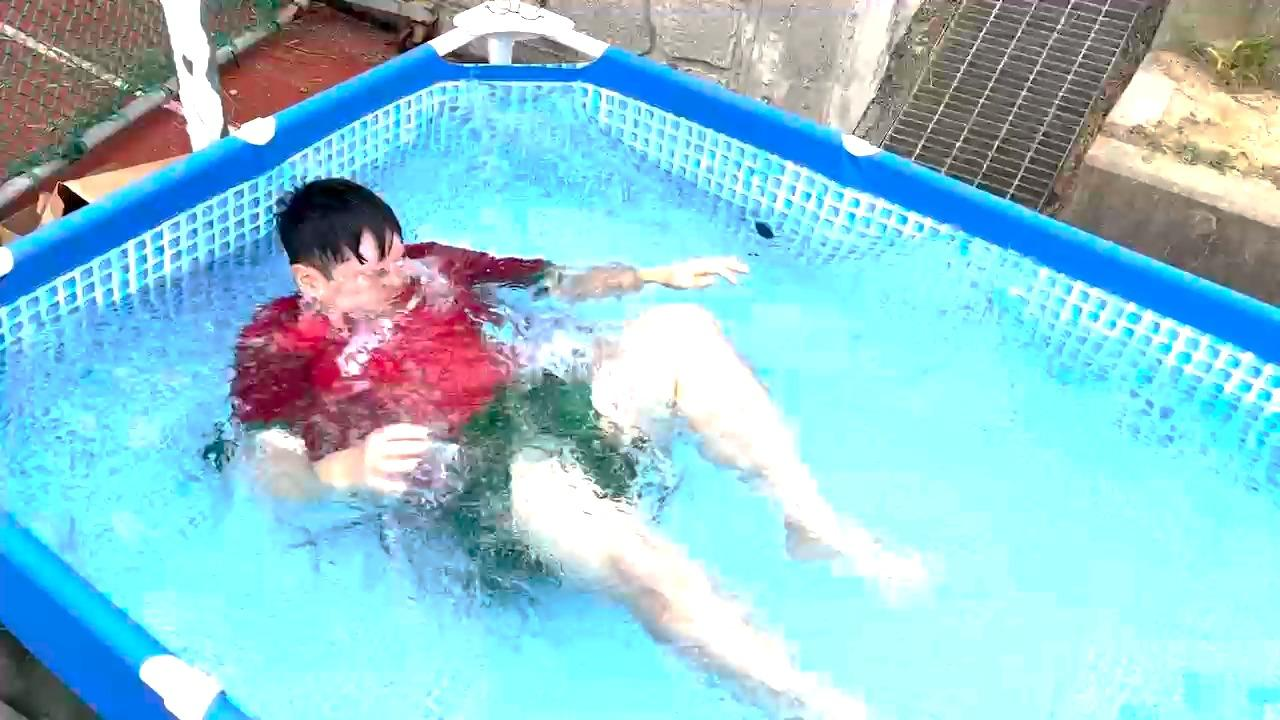Drowning: (173, 132, 944, 707)
